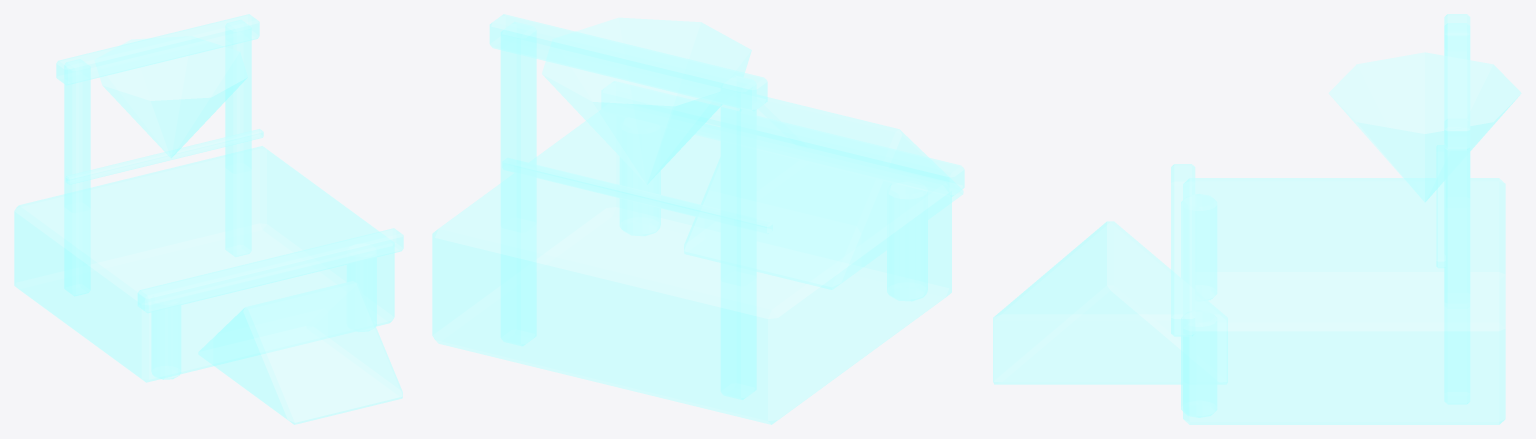
File: GH_Building_LoadingDock.fbx
The picture shows the model from 3 angles, left to right: view 1: azimuth 30°, elevation 25°; view 2: azimuth 150°, elevation 25°; view 3: azimuth 270°, elevation 25°; orthographic projection. The views are drawn at different scales.
Parts seen in each view (by area): view 1: SM_Building_LoadingDock; view 2: SM_Building_LoadingDock; view 3: SM_Building_LoadingDock.
Boxes of the visible parts, x1,y1,x2,y2 form: SM_Building_LoadingDock: (14, 14, 403, 424); SM_Building_LoadingDock: (432, 14, 964, 424); SM_Building_LoadingDock: (993, 14, 1521, 424).
Size of the model in its own units: 2.25 by 1.94 by 3.28.
